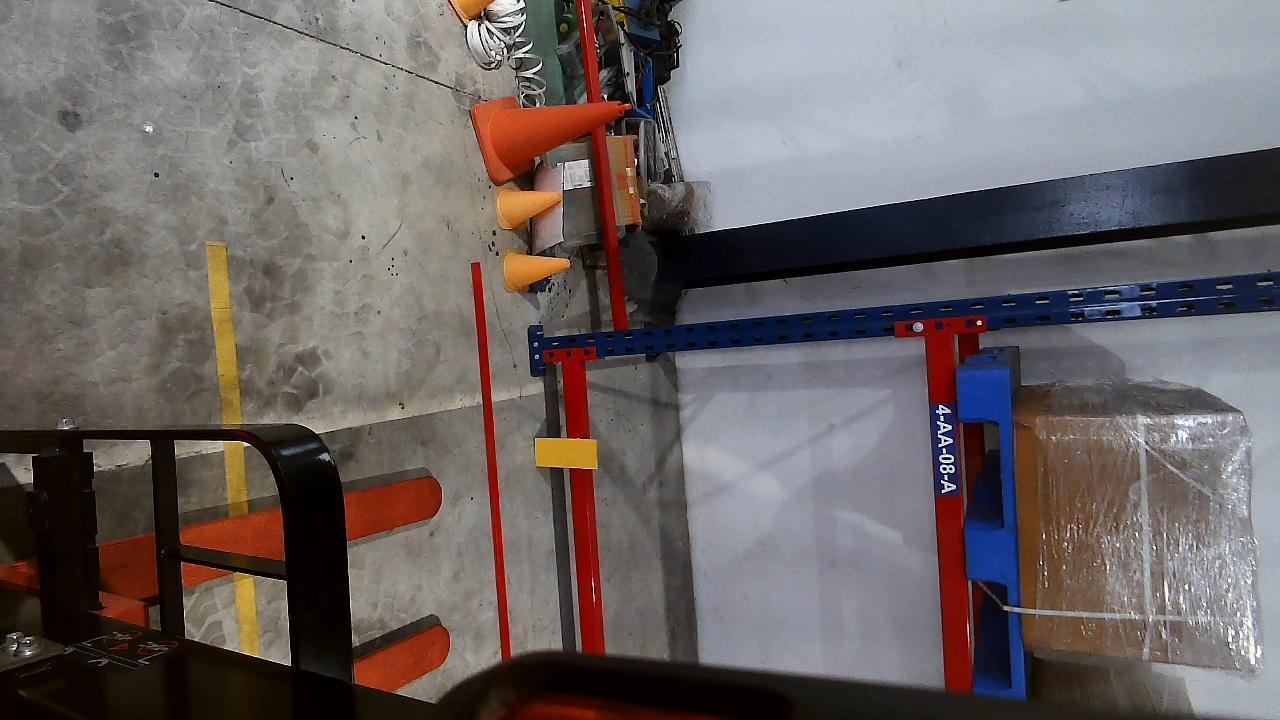red_line: (470, 261, 510, 659)
yellow_line: (203, 242, 250, 513)
